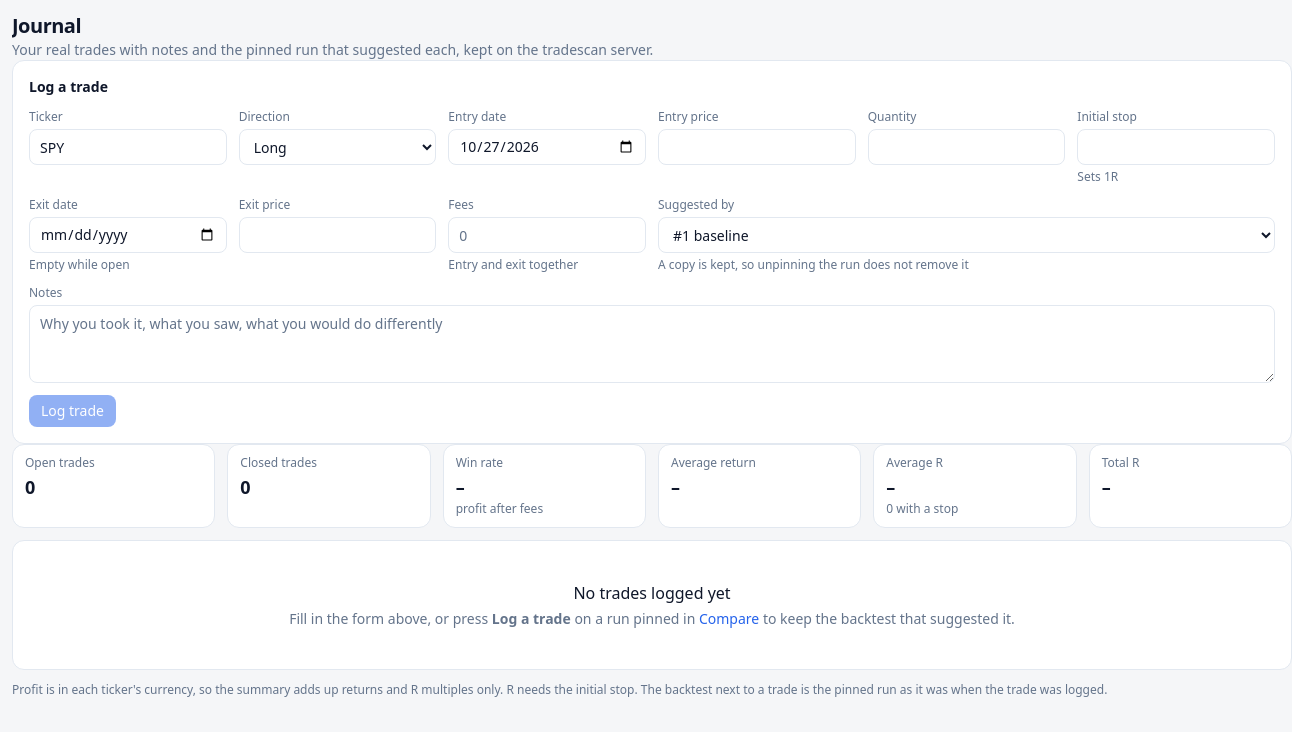
Test: JournalPage › logs a trade from a pinned run with a copy of the run
Expected: the field labelled "Ticker" holds "SPY", [29,129,227,165]
Expected: the dropdown labelled "Suggested by" shows "#1 baseline", [658,217,1275,253]
Type "500" into the number field labelled "Entry price". click: (757, 147)
box: [658,129,856,165]
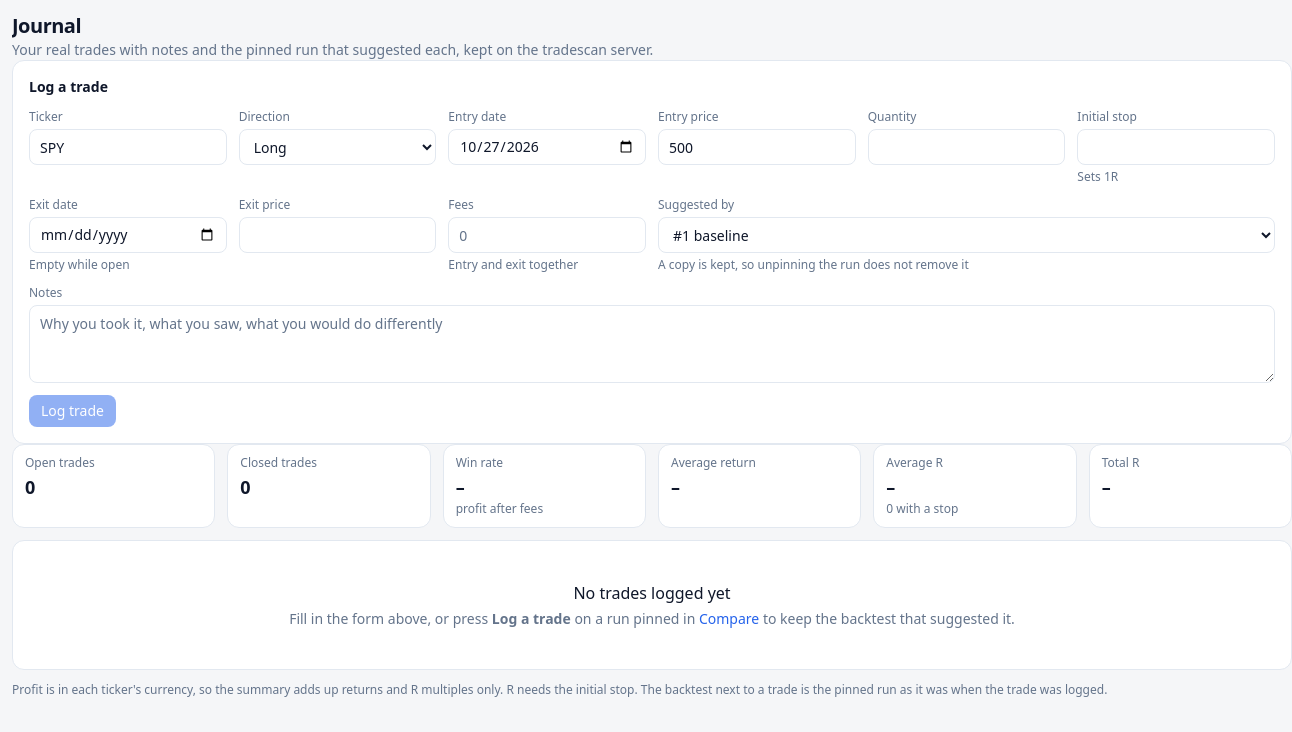
Type "2" into the number field labelled "Quantity". click: (967, 147)
box: [868,129,1065,165]
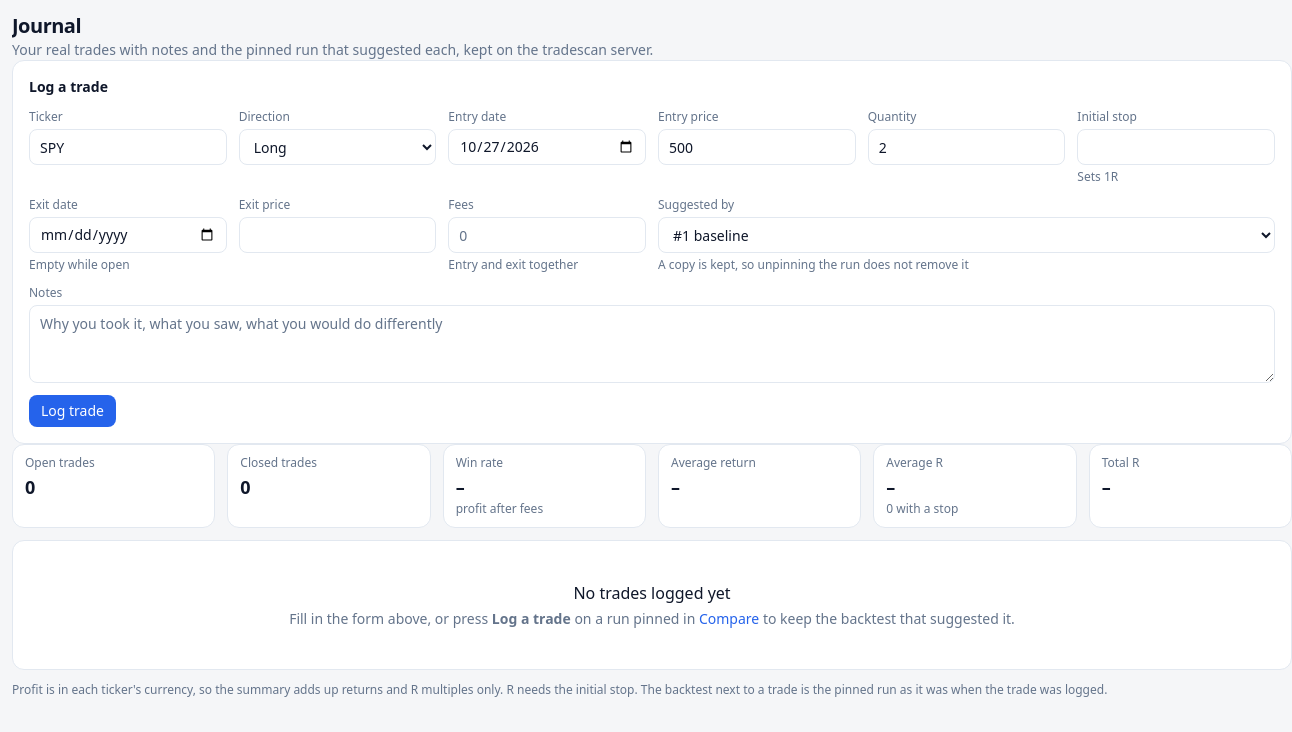
Click the button "Log trade". click: (72, 411)
box: [29,395,116,427]
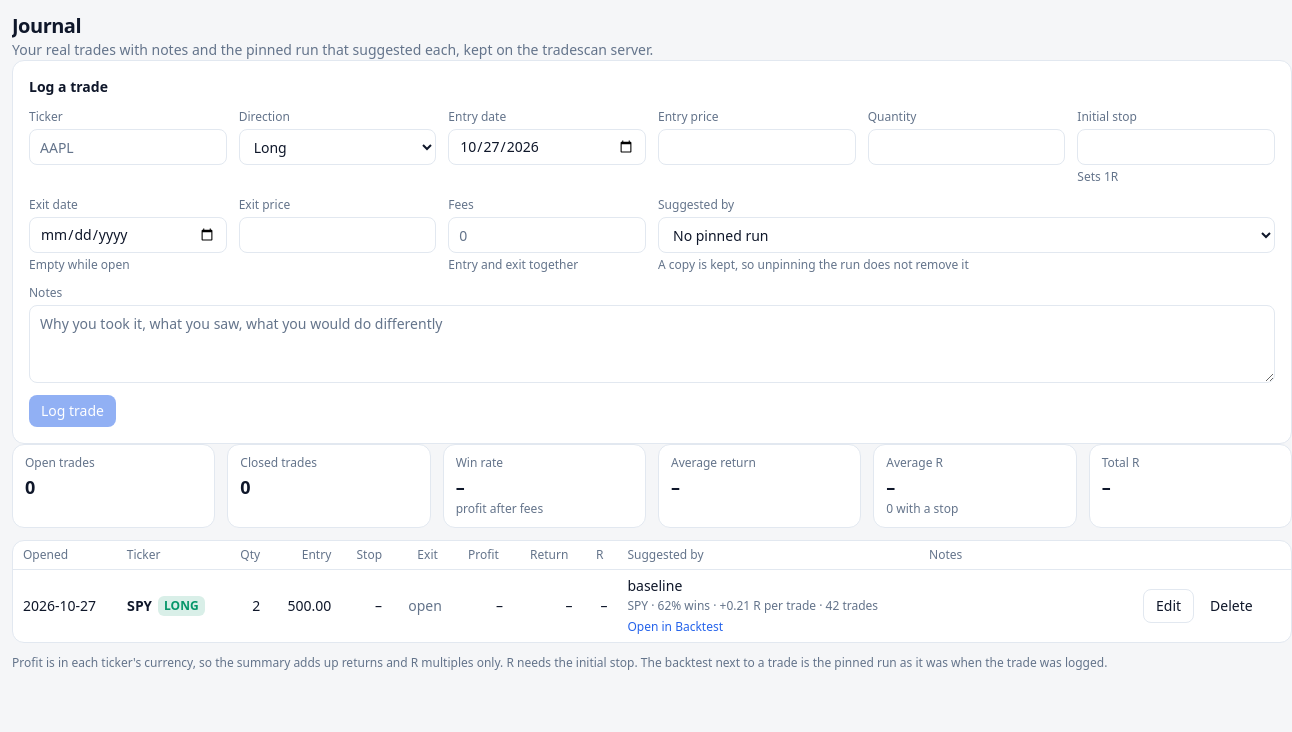
Expected: the text "baseline" is shown, [627,576,682,595]
Expected: the text "SPY · 62% wins · +0.21 R per trade · 42 trades" is shown, [627,598,909,614]
